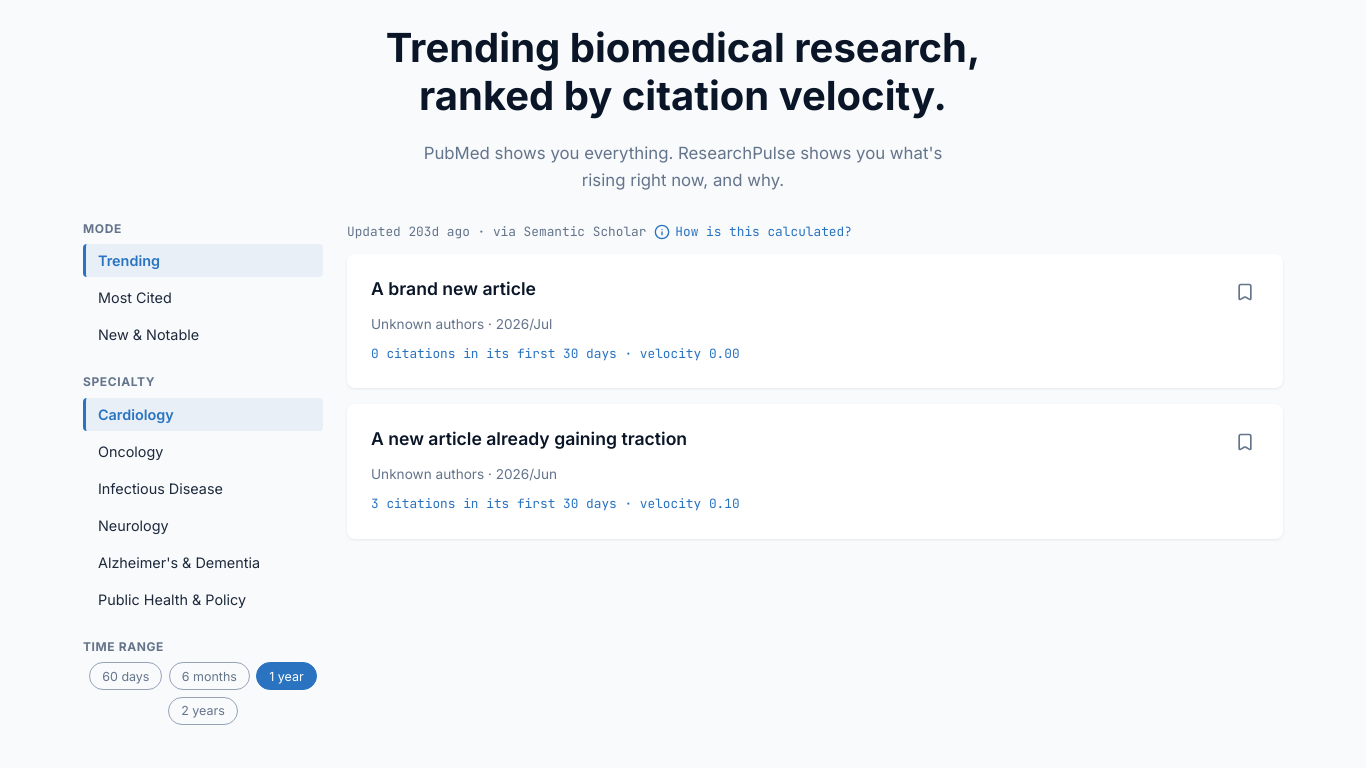
Test: TrendingPage › hides the citation stat line for 0-citation articles in New & Notable mode, but keeps it for nonzero ones
This screenshot has width=1366, height=768.
Expected: the heading "A brand new article" is shown, left=371, top=278, right=536, bottom=299
Click the radio button labelled "New & Notable".
click(203, 335)  # box left=83, top=318, right=323, bottom=351
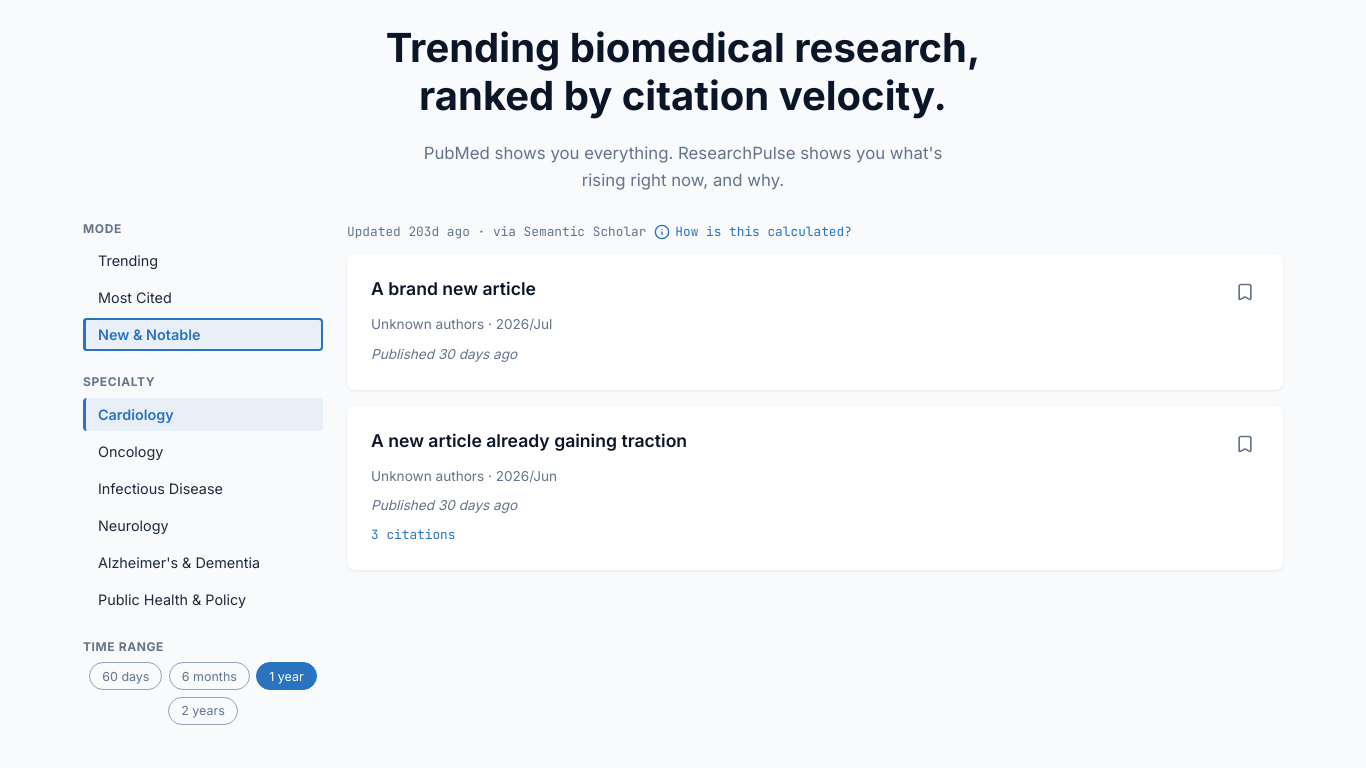
Expected: the heading "A brand new article" is shown, left=371, top=278, right=536, bottom=299
Expected: the text "0 citations" is gone
